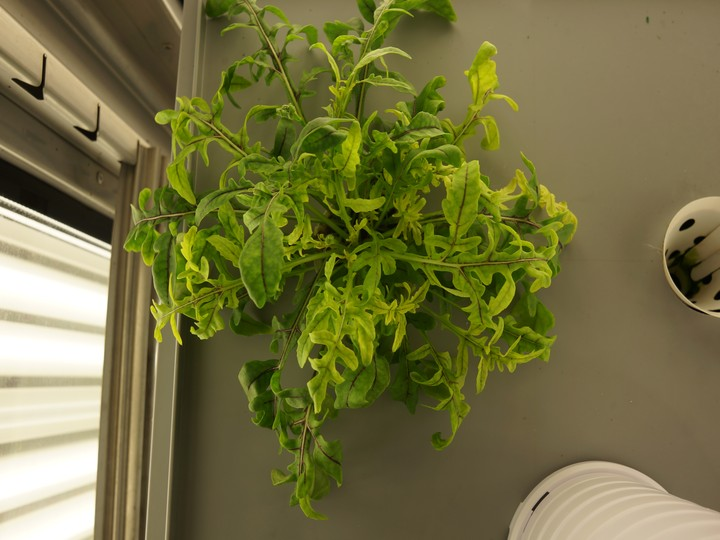roquette_sauvage_red_veined: (121, 1, 573, 534)
